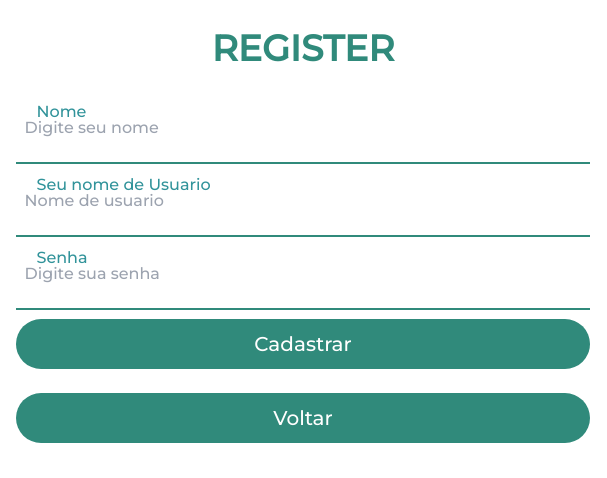
Register component › deve lidar com erro de registro
The image size is (607, 478).
Type "Hendreo" into the field with placeholder "Digite seu nome".
click(303, 128); type("Hendreo")  # box [16, 108, 590, 148]
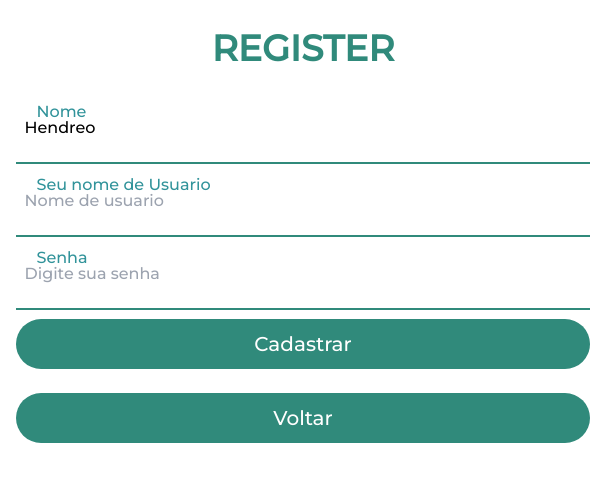
Type "Hendreo1" into the field with placeholder "Nome de usuario".
click(303, 200); type("Hendreo1")  # box [16, 180, 590, 220]
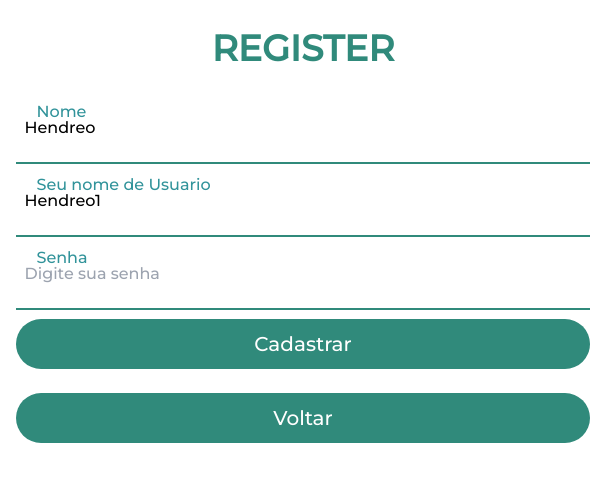
Type "password123" into the password field with placeholder "Digite sua senha".
click(303, 274); type("password123")  # box [16, 254, 590, 294]
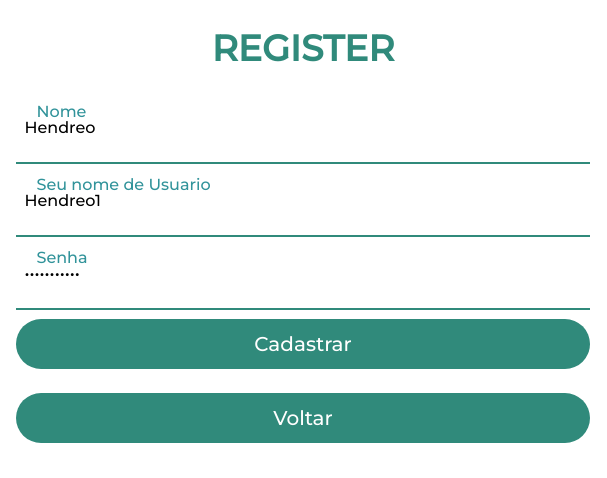
Click the button "Cadastrar".
click(303, 344)  # box [16, 318, 590, 368]
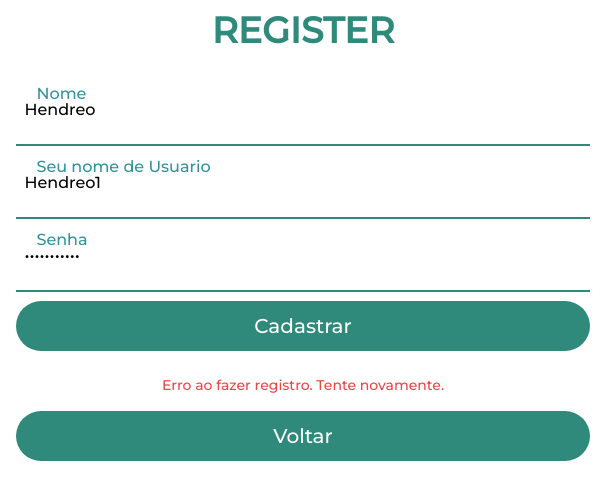
Now the text "Erro ao fazer registro. Tente novamente." is shown, box [162, 374, 444, 394]
